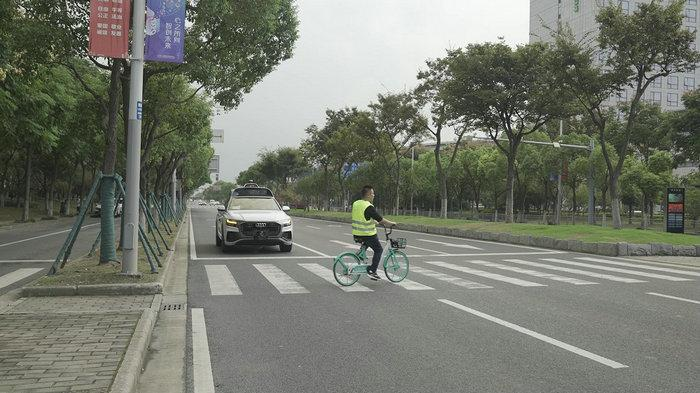bicycle: (333, 227, 410, 286)
car: (213, 183, 295, 253)
person: (351, 185, 399, 277)
